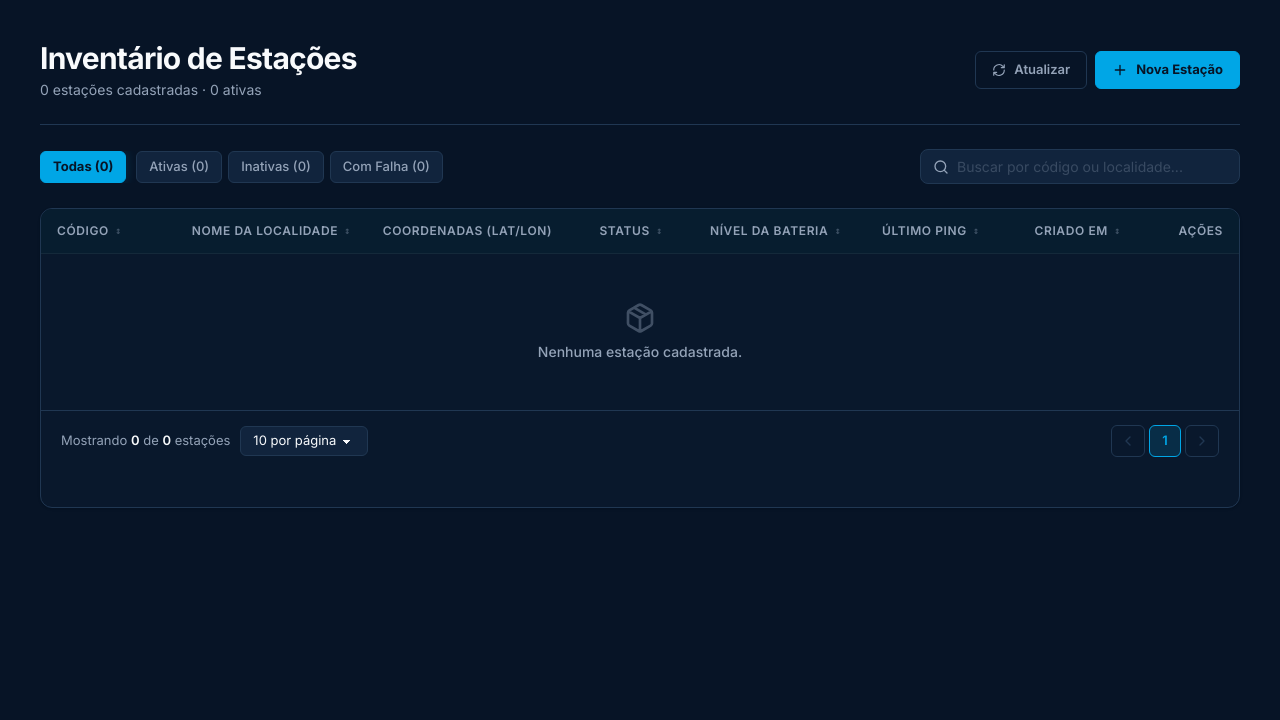
Test: Componente Stations - Casos de Uso BDD / Gherkin › Cenário 1: Cadastro de estação com sucesso pelo Gestor Público
Click the button with aria-label "+ Nova Estação" at (1168, 70), box top-left (1095, 51), bottom-right (1240, 89)
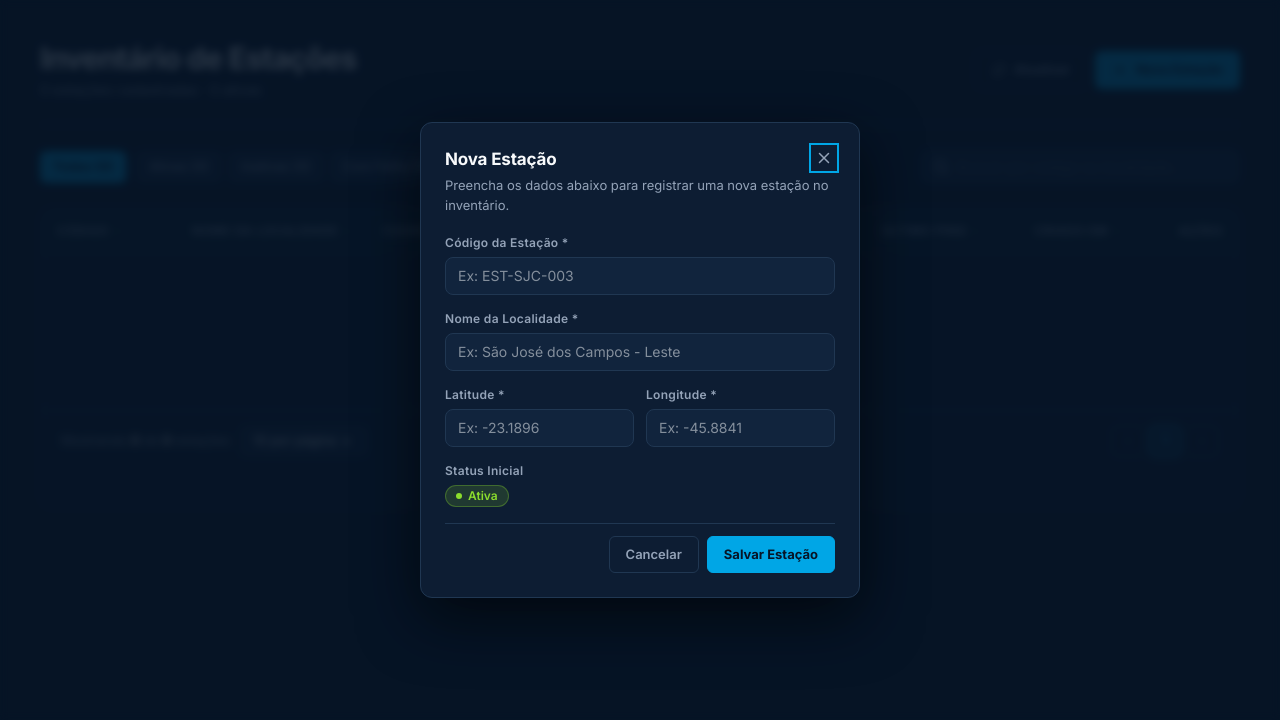
Type "EST-SJC-099" into the field labelled "Código da Estação *" at (640, 276), box top-left (445, 257), bottom-right (835, 295)
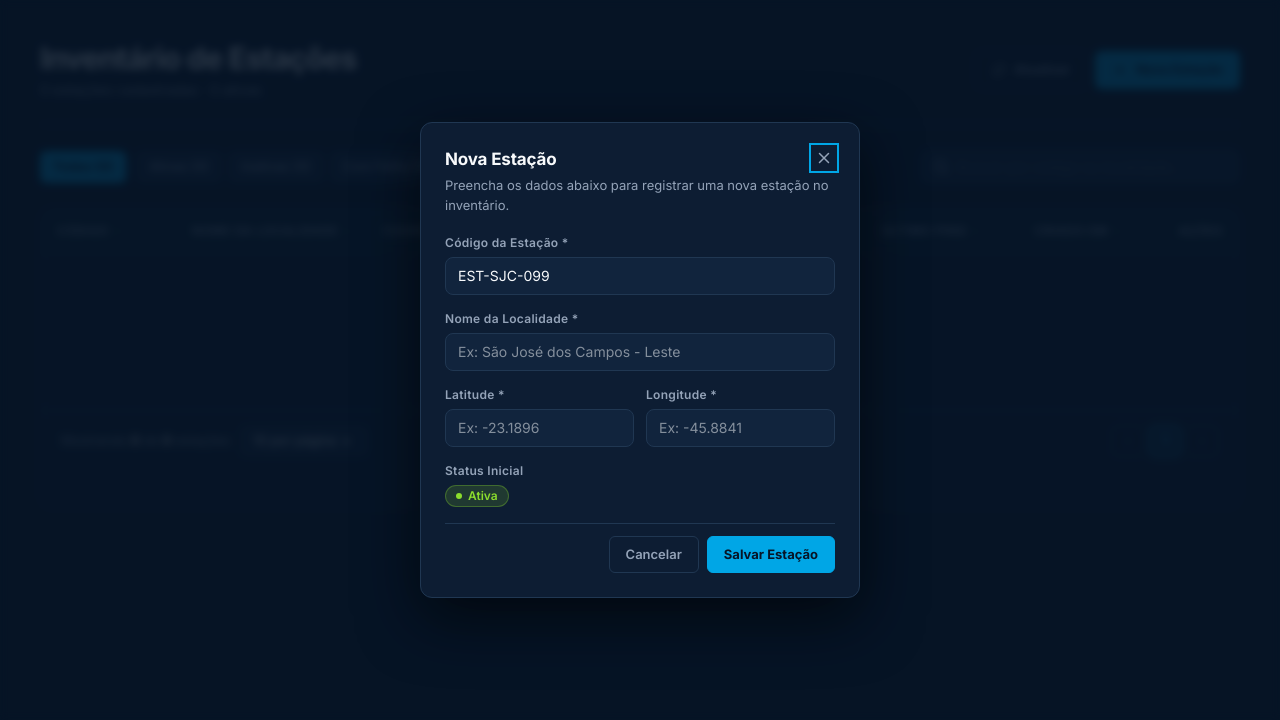
Type "Localidade Qualquer" into the field labelled "Nome da Localidade *" at (640, 352), box top-left (445, 333), bottom-right (835, 371)
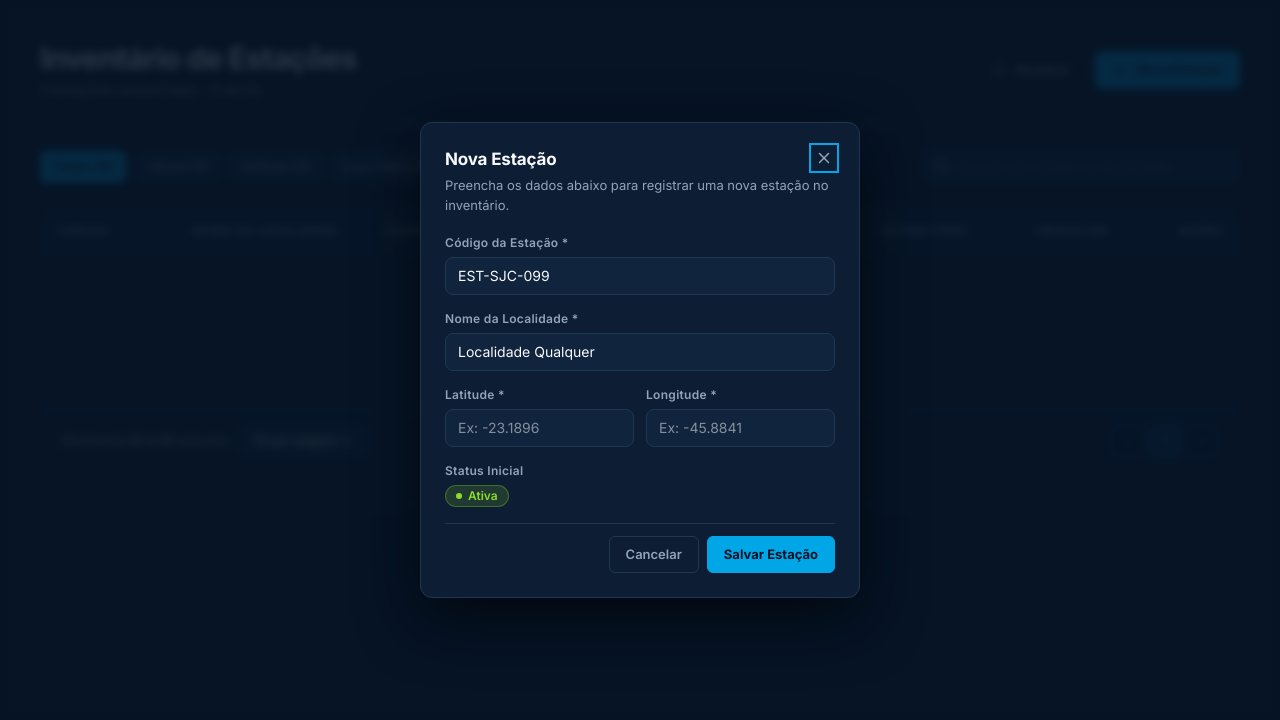
Type "-23.153400" into the number field labelled "Latitude *" at (540, 428), box top-left (445, 409), bottom-right (634, 447)
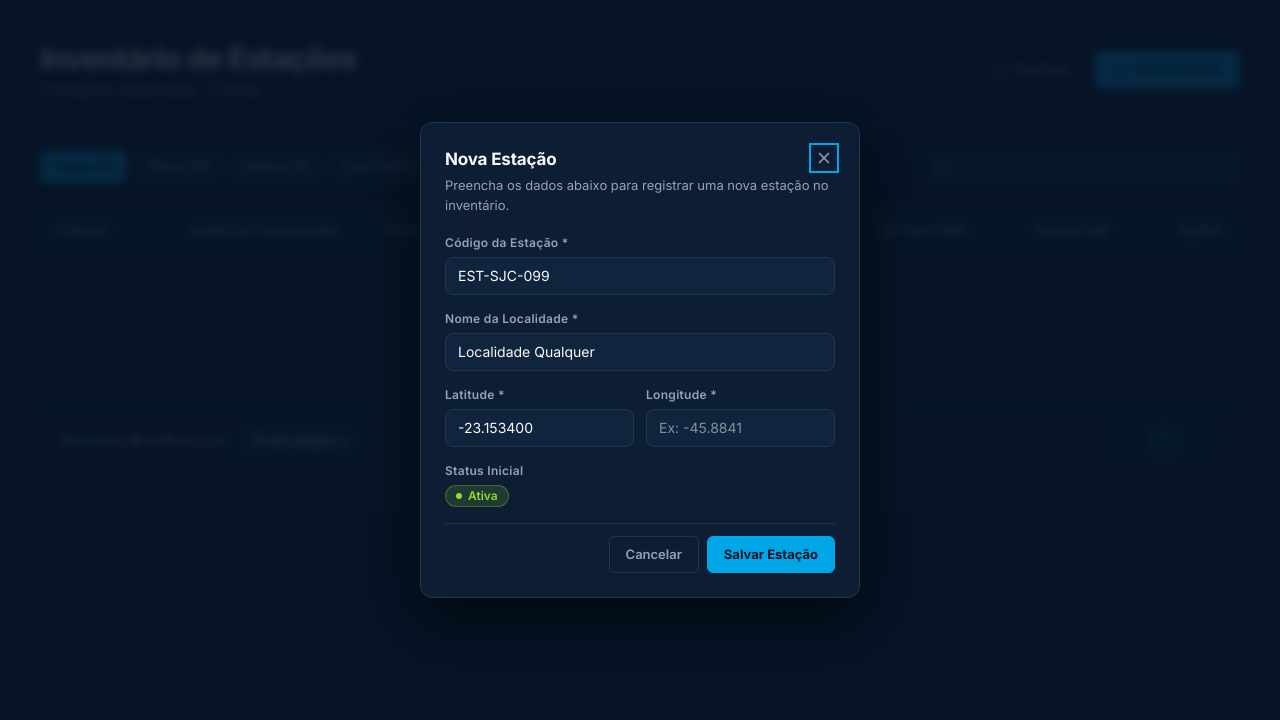
Type "-45.792200" into the number field labelled "Longitude *" at (740, 428), box top-left (646, 409), bottom-right (835, 447)
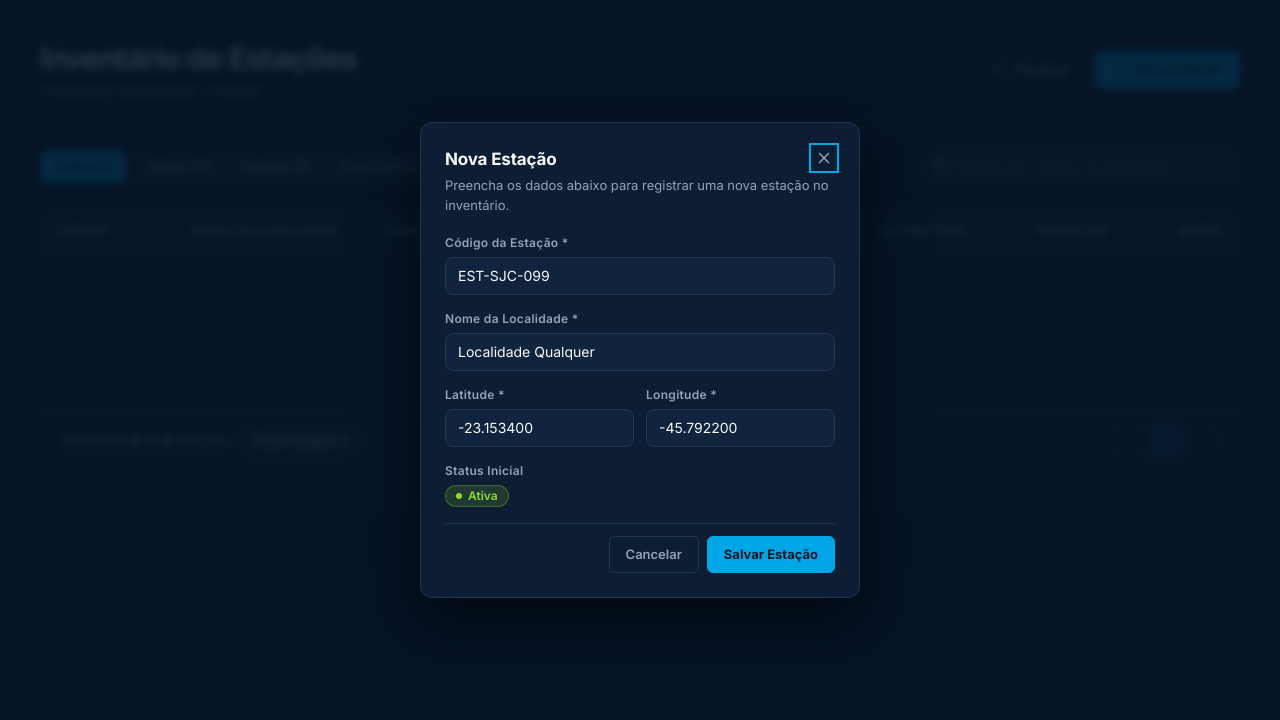
Click the button "Salvar Estação" at (771, 555), box top-left (707, 536), bottom-right (835, 573)
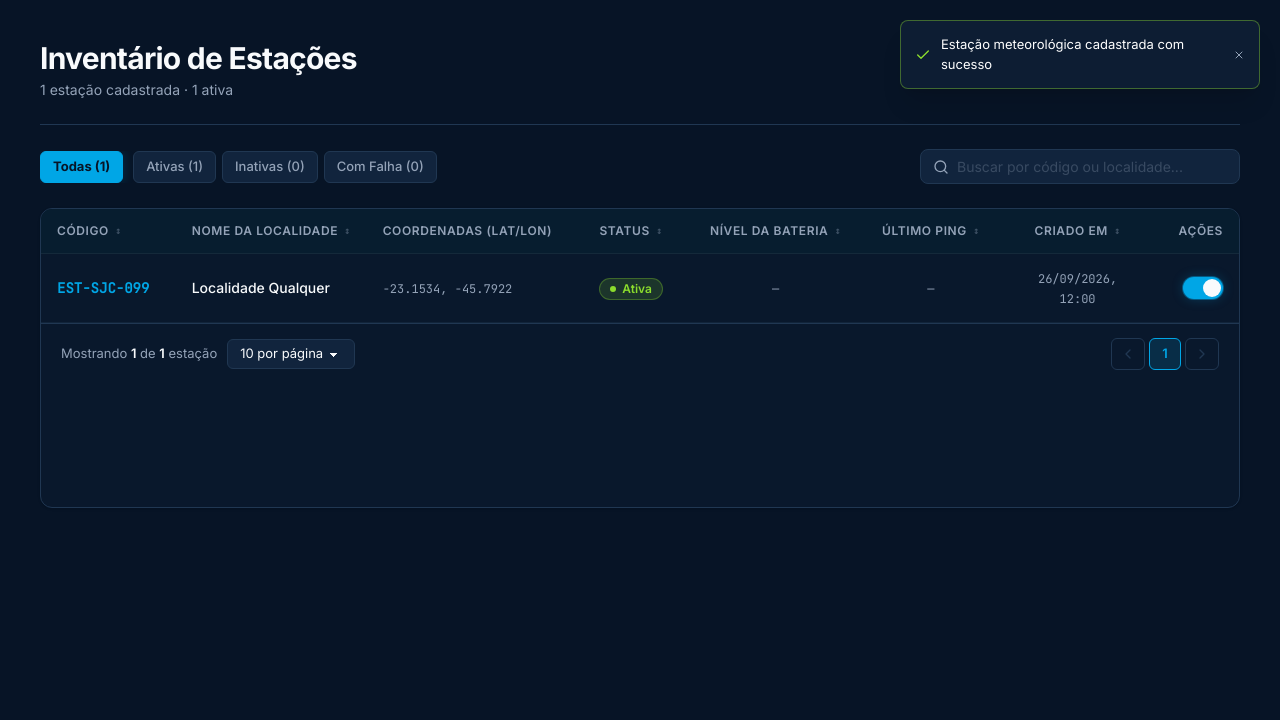
Result: the text "Estação meteorológica cadastrada com sucesso" is shown at top-left (941, 35), bottom-right (1223, 74)
Result: the row "EST-SJC-099" shows "Ativa" at top-left (622, 280), bottom-right (652, 296)
Result: the row "EST-SJC-099" shows "-23.1534, -45.7922" at top-left (41, 254), bottom-right (1239, 322)
